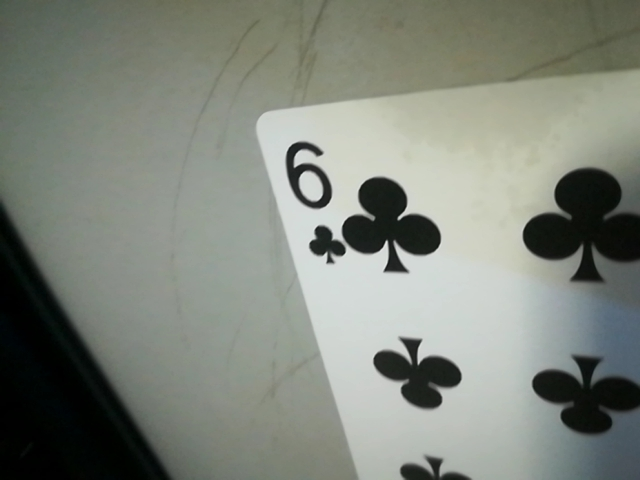mh 6: (273, 127, 345, 275)
